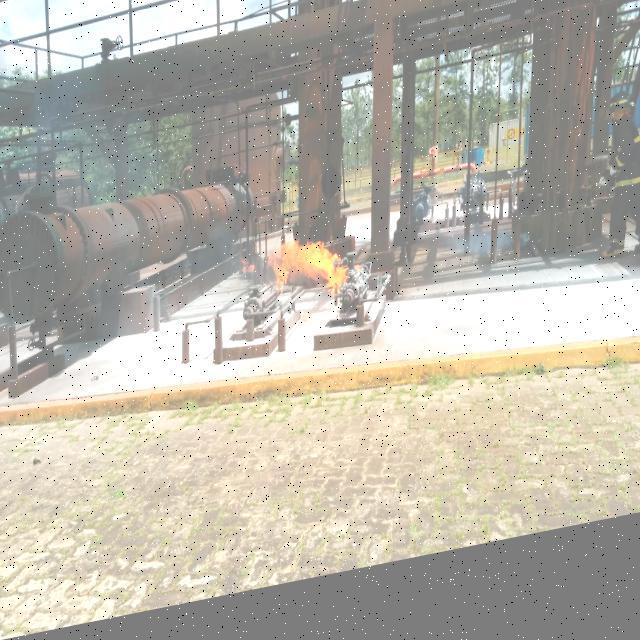Fire: (280, 235, 352, 319)
